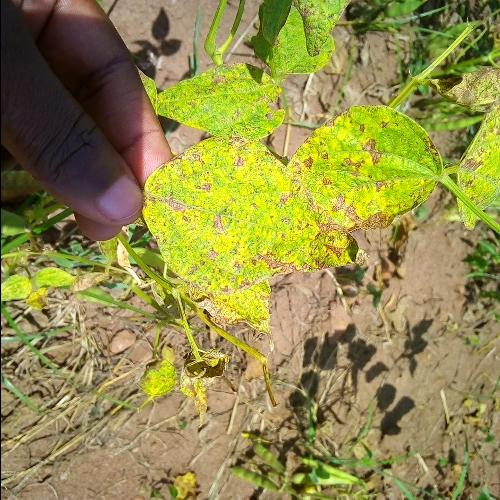hawar: (153, 128, 422, 308)
